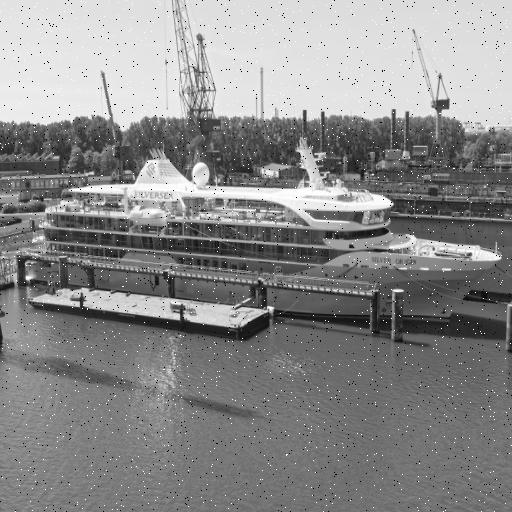cruises: (28, 135, 506, 331)
